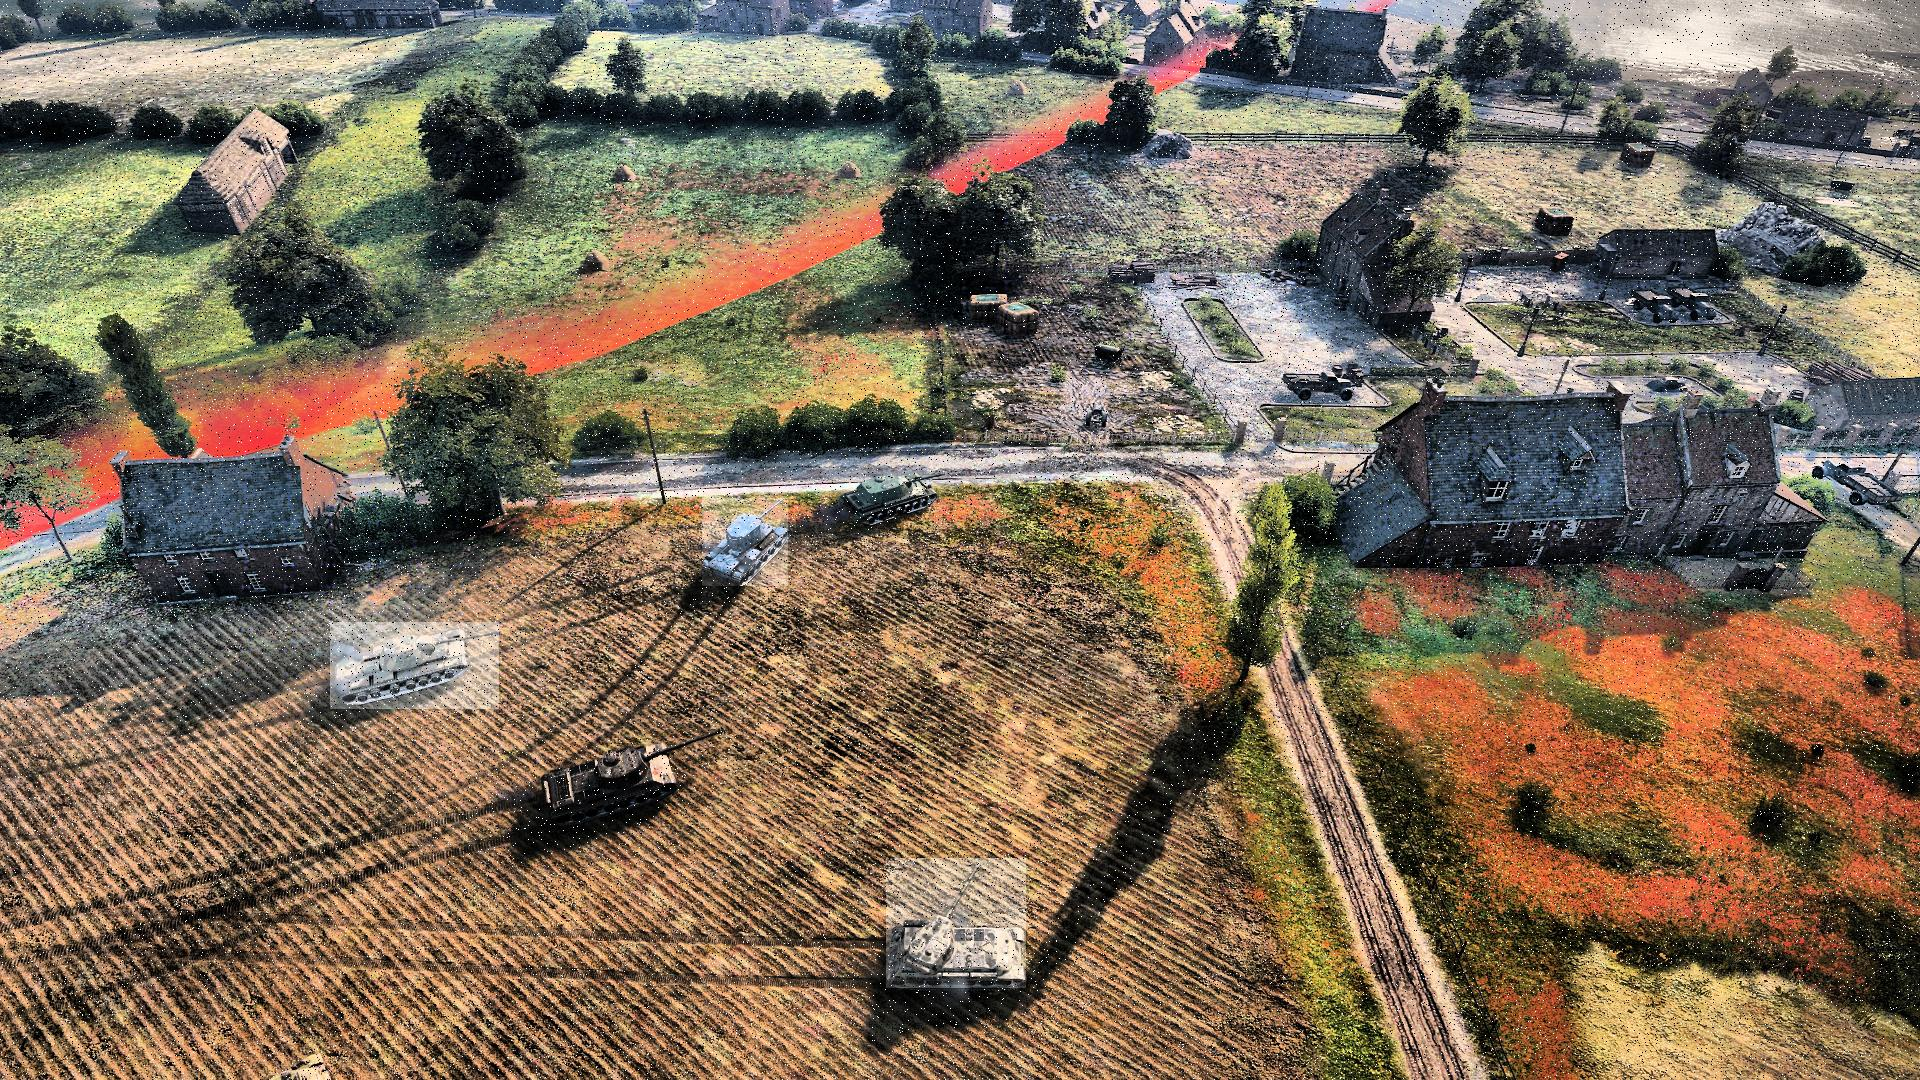military-vehicle: (886, 858, 1027, 989), (538, 732, 720, 822), (331, 622, 500, 709), (703, 498, 789, 587), (841, 471, 943, 529)
